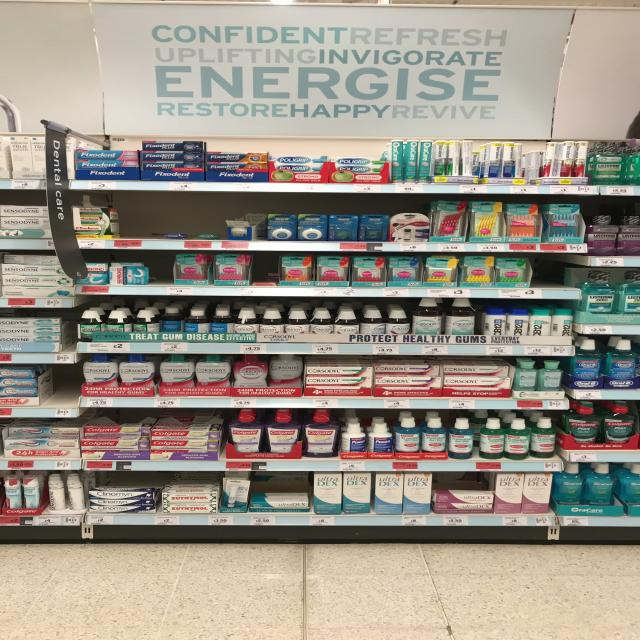void: (120, 202, 159, 239), (42, 366, 76, 404), (534, 256, 570, 287)
